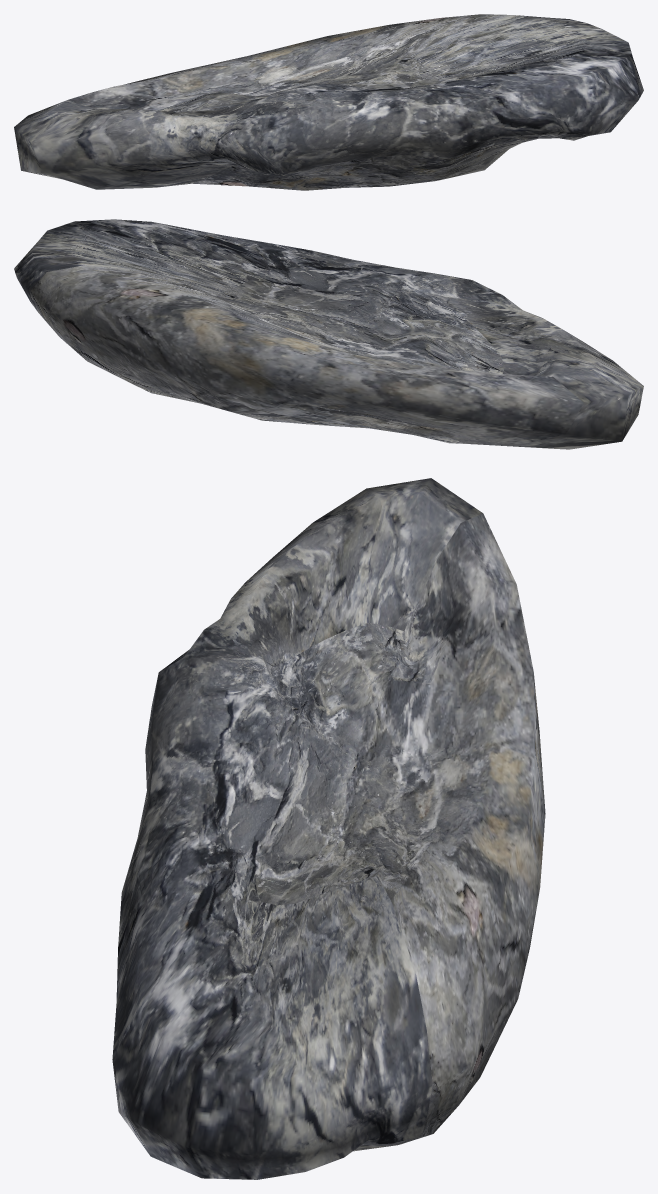
Rendered from rock3.fbx.
3 views of the same model, one above another, from view 1: azimuth 30°, elevation 25°; view 2: azimuth 150°, elevation 25°; view 3: azimuth 270°, elevation 25° (orthographic). The views are drawn at different scales.
Parts seen in each view (by area): view 1: pCube6; view 2: pCube6; view 3: pCube6.
Part boxes in pixels (box(x1,y1,x2,y2)): pCube6: box(14, 14, 643, 190); pCube6: box(14, 219, 643, 449); pCube6: box(112, 478, 545, 1179).
Size of the model in its own units: 11.45 by 2.63 by 3.71.
